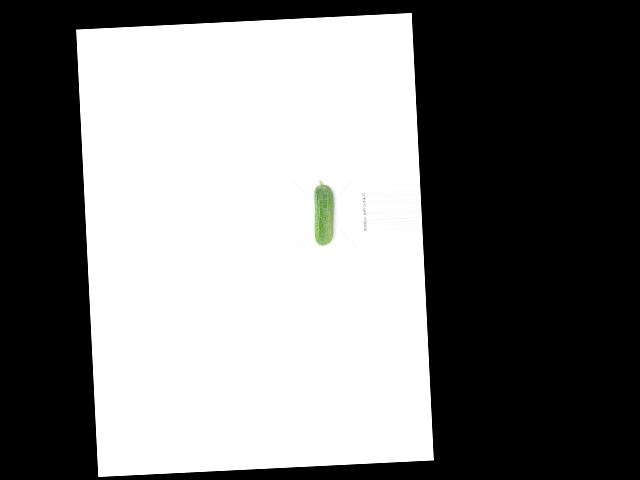cucumber: (312, 179, 335, 246)
